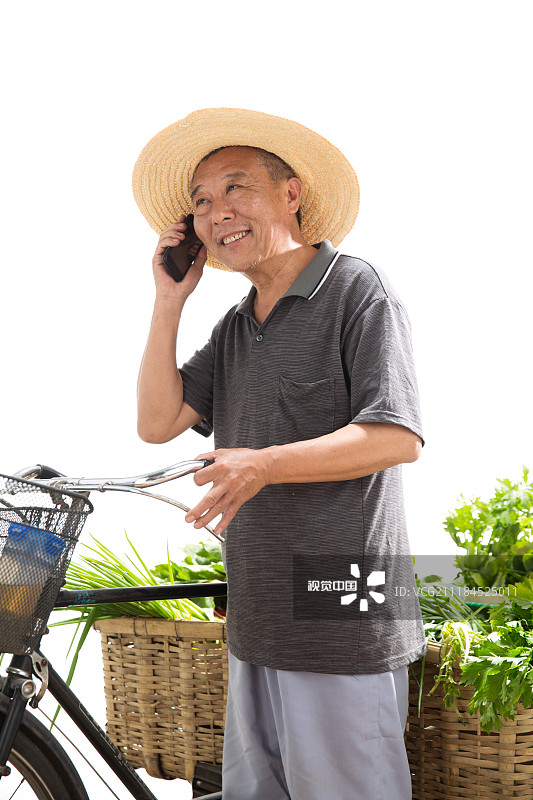calling: (133, 199, 226, 319)
